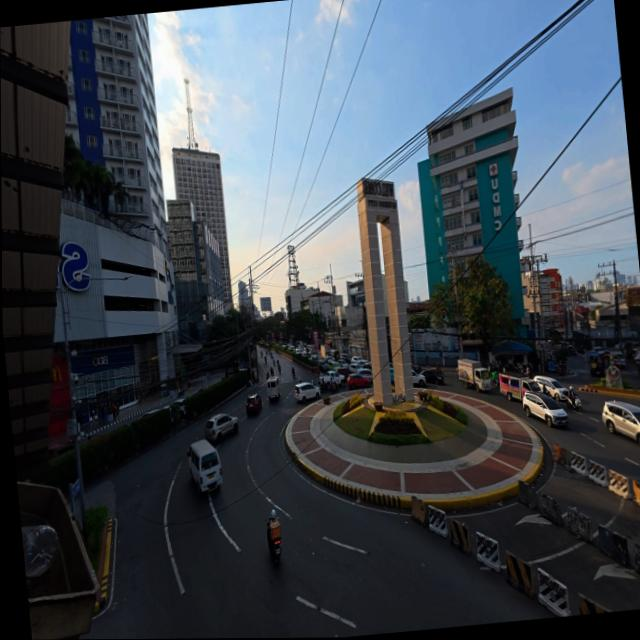car: (517, 382, 570, 430), (202, 412, 240, 444), (292, 380, 320, 403), (345, 370, 372, 390), (244, 393, 262, 415)
vans: (184, 437, 224, 495)
